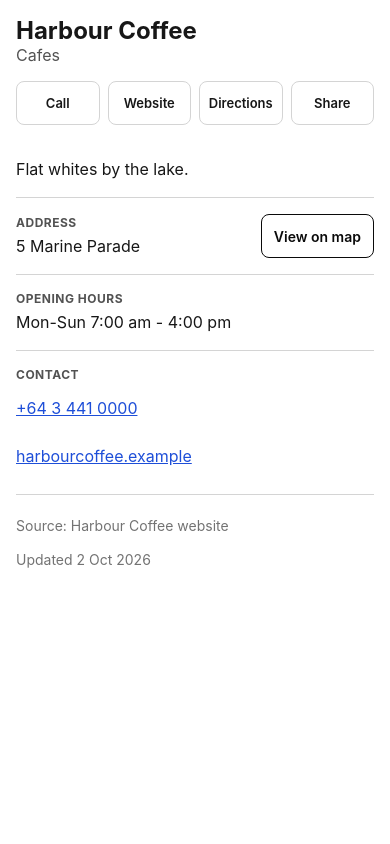
Test: Place › an action the phone cannot do says so
The width and height of the screenshot is (390, 844).
Click the button "Website" at (149, 103), box [108, 81, 191, 125]
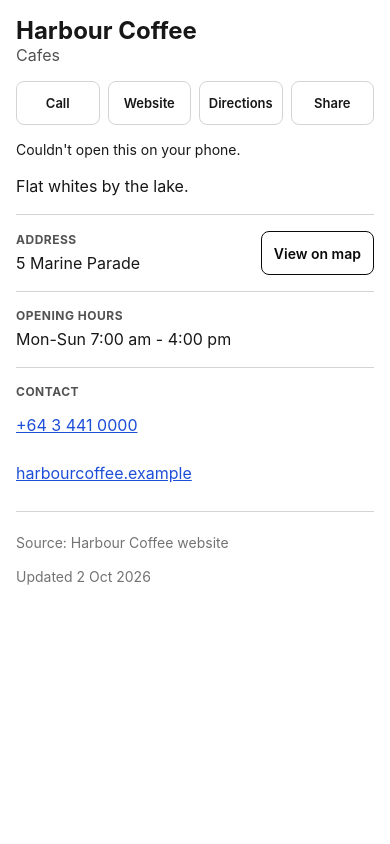
Result: the text "Couldn't open this on your phone." is shown at [16, 141, 241, 158]
